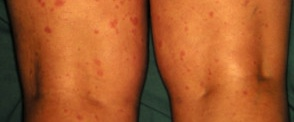SJS-TEN: (150, 0, 280, 122), (98, 0, 156, 67), (23, 0, 68, 37), (92, 52, 107, 81)
